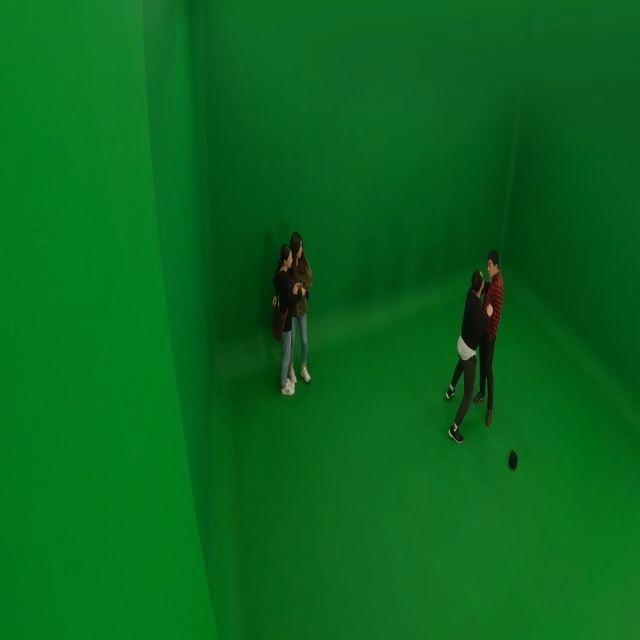fight: (444, 254, 502, 443)
non-fight: (274, 232, 312, 401)
